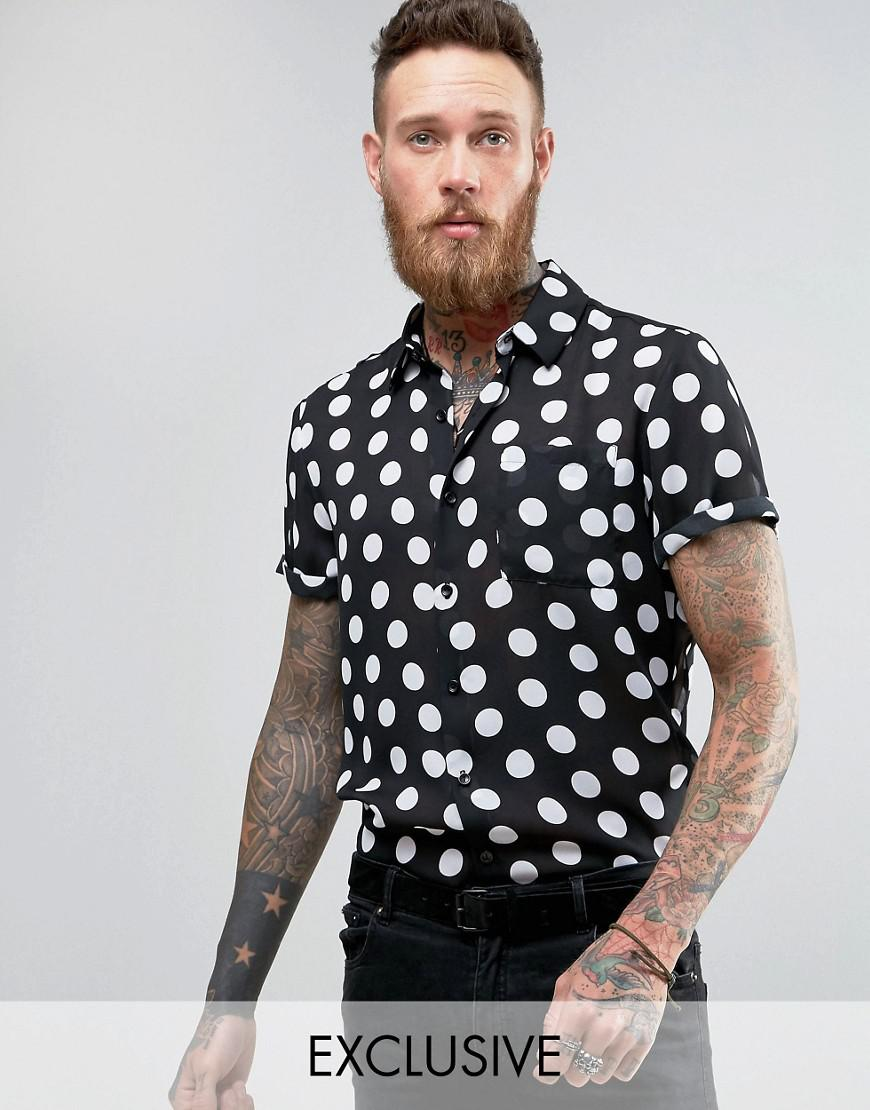teeshirt: (266, 269, 774, 905)
